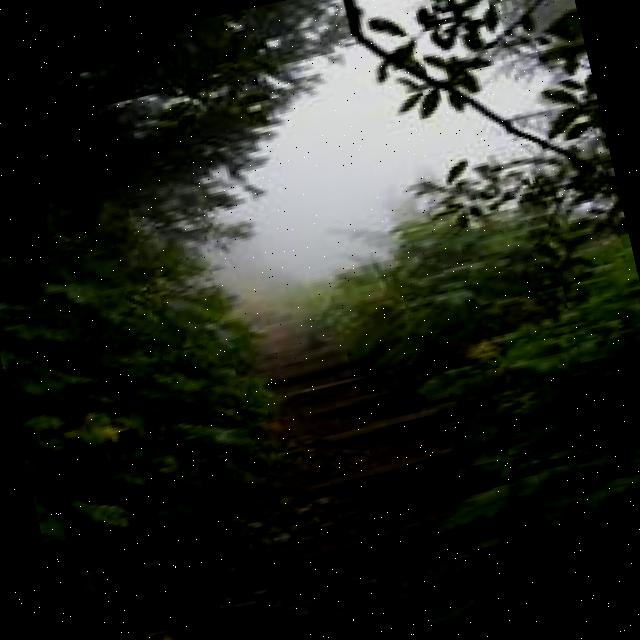stairs: (130, 174, 589, 640)
